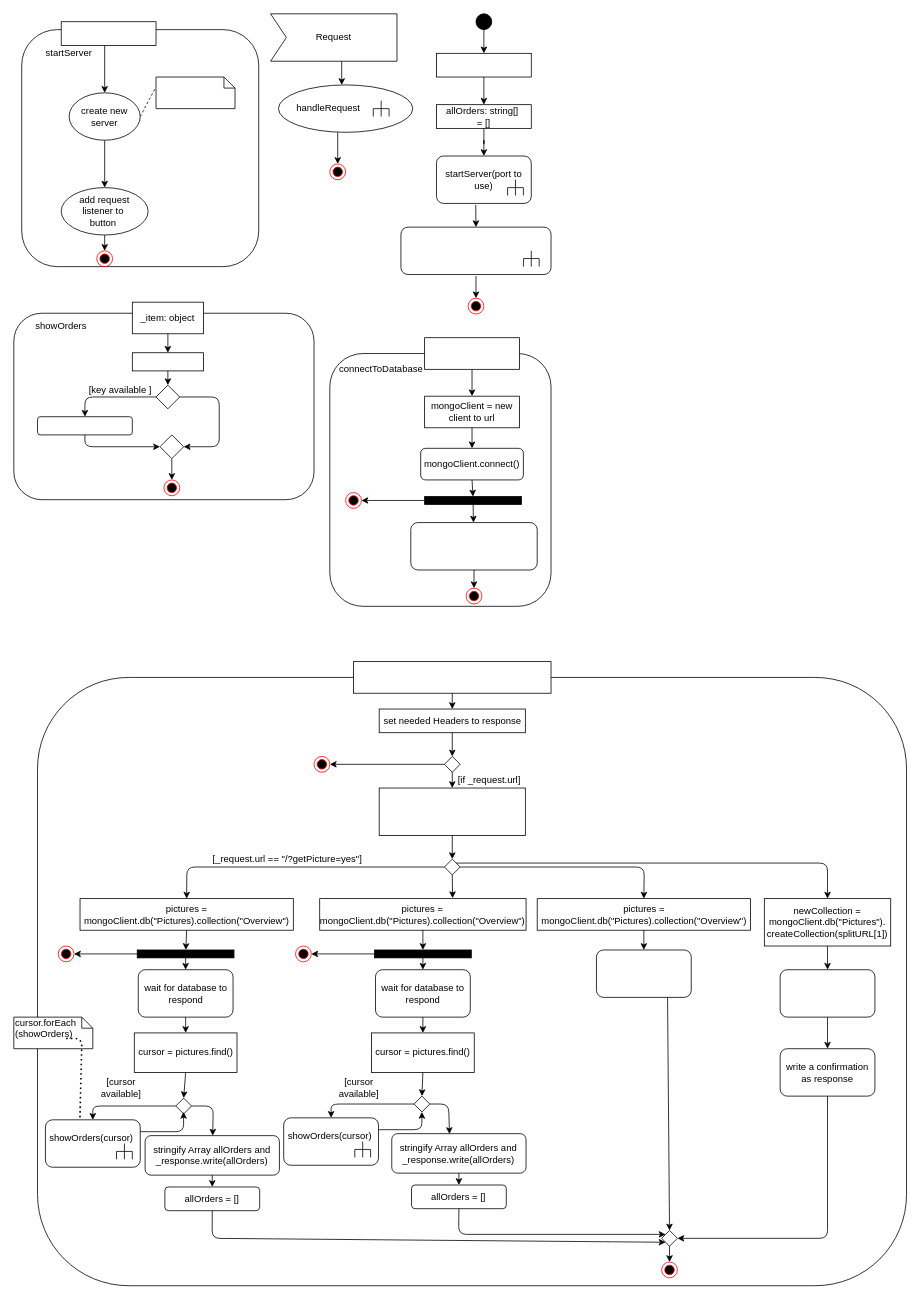
Some shapes in this 920 by 1300 pixel diagram are drawn without their labels. Each missing label, with the box of its shape:
_port: number | string: (60, 21, 156, 45)
_request: Http.IncomingMessage _response: Http.ServerResponse: (353, 661, 551, 693)
_url_ string: (424, 337, 519, 369)
allOrders.push(key): (37, 416, 132, 435)
connectToDatabase and commit url to use: (400, 226, 551, 275)
Http.createServer: (155, 76, 235, 109)
insert url.query into newCollection: (779, 969, 875, 1017)
insert url.query into pictures: (596, 949, 691, 997)
let key in item: (132, 352, 203, 371)
orders = database("Pictures") collection("Masterpieces"): (410, 522, 537, 570)
Orders: Collection: (436, 53, 531, 77)
url = Url.parse(_request.url) splitURL = _request.url.spliz("&"): (378, 787, 525, 835)
